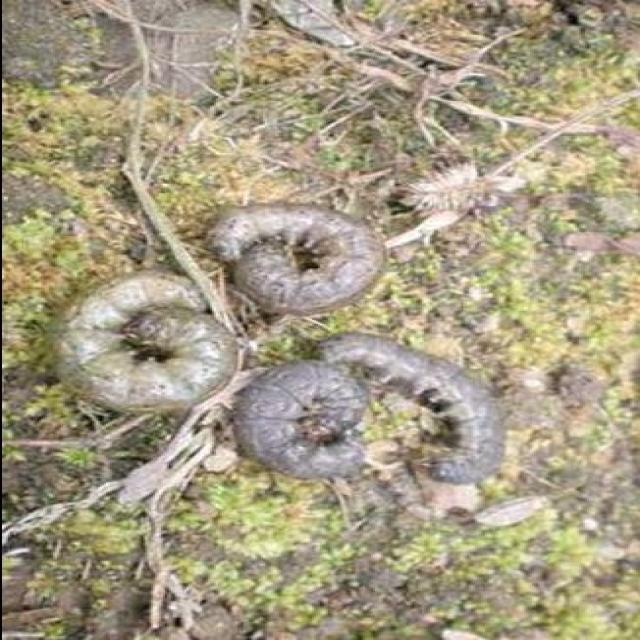black cutworm: (308, 331, 520, 488), (51, 273, 234, 430), (212, 201, 383, 317), (230, 362, 373, 490)
